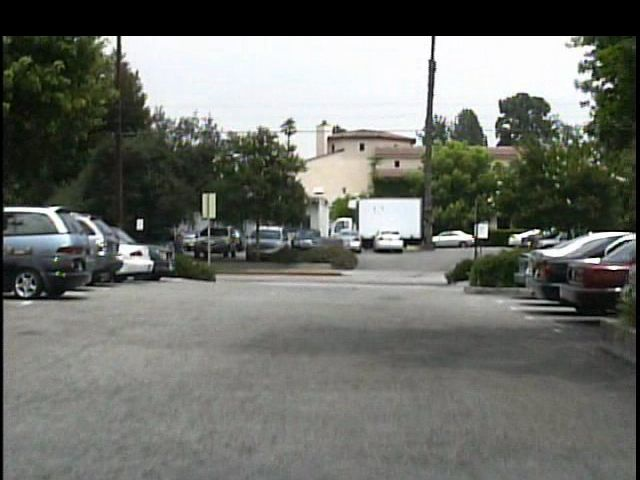person: (169, 223, 193, 265)
